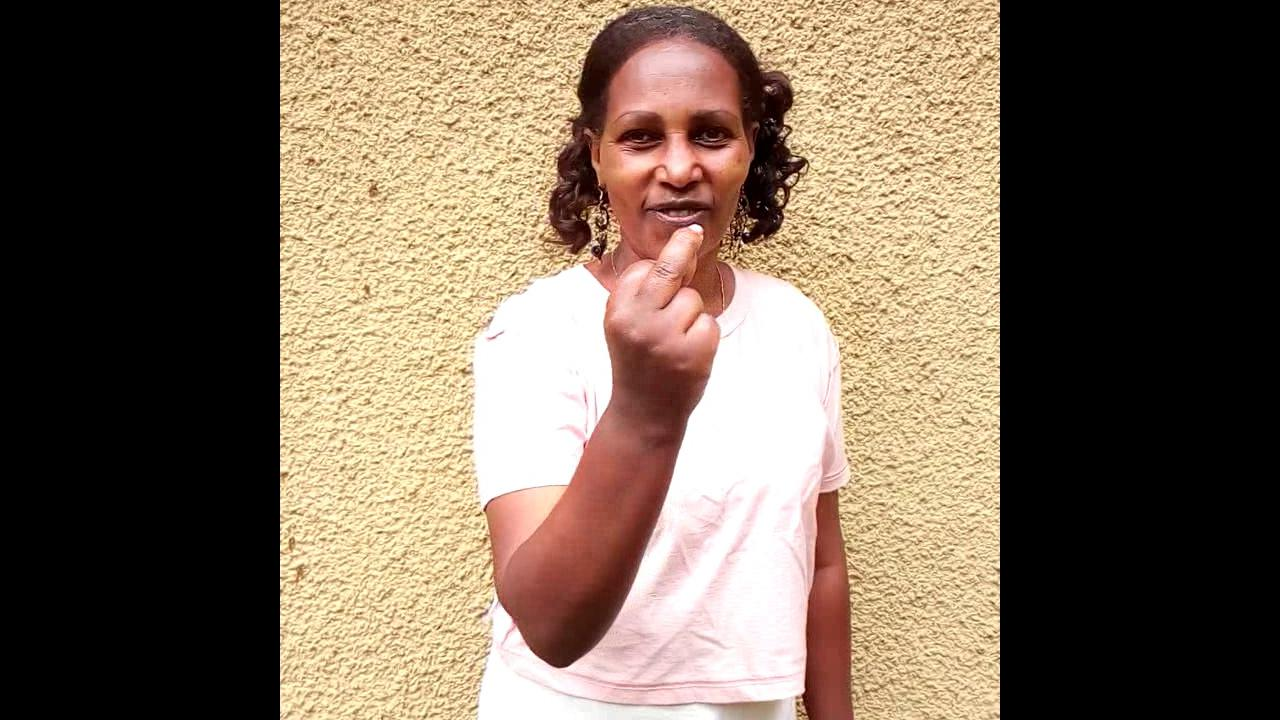CHE: (602, 225, 732, 482)
